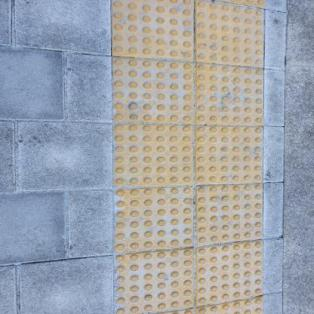Podoctatil: (97, 0, 268, 313)
